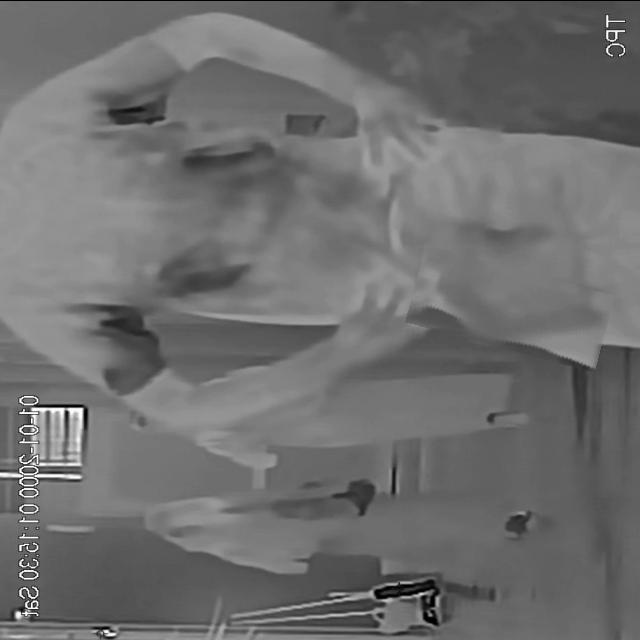Weapon: (409, 256, 612, 360)
